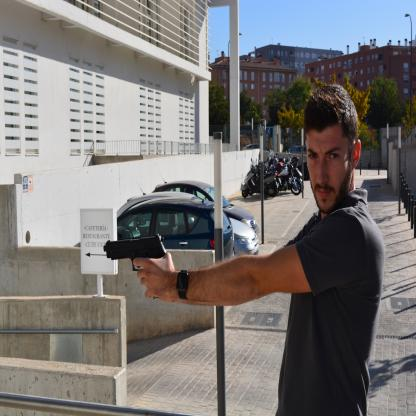pistol: (103, 233, 167, 298)
